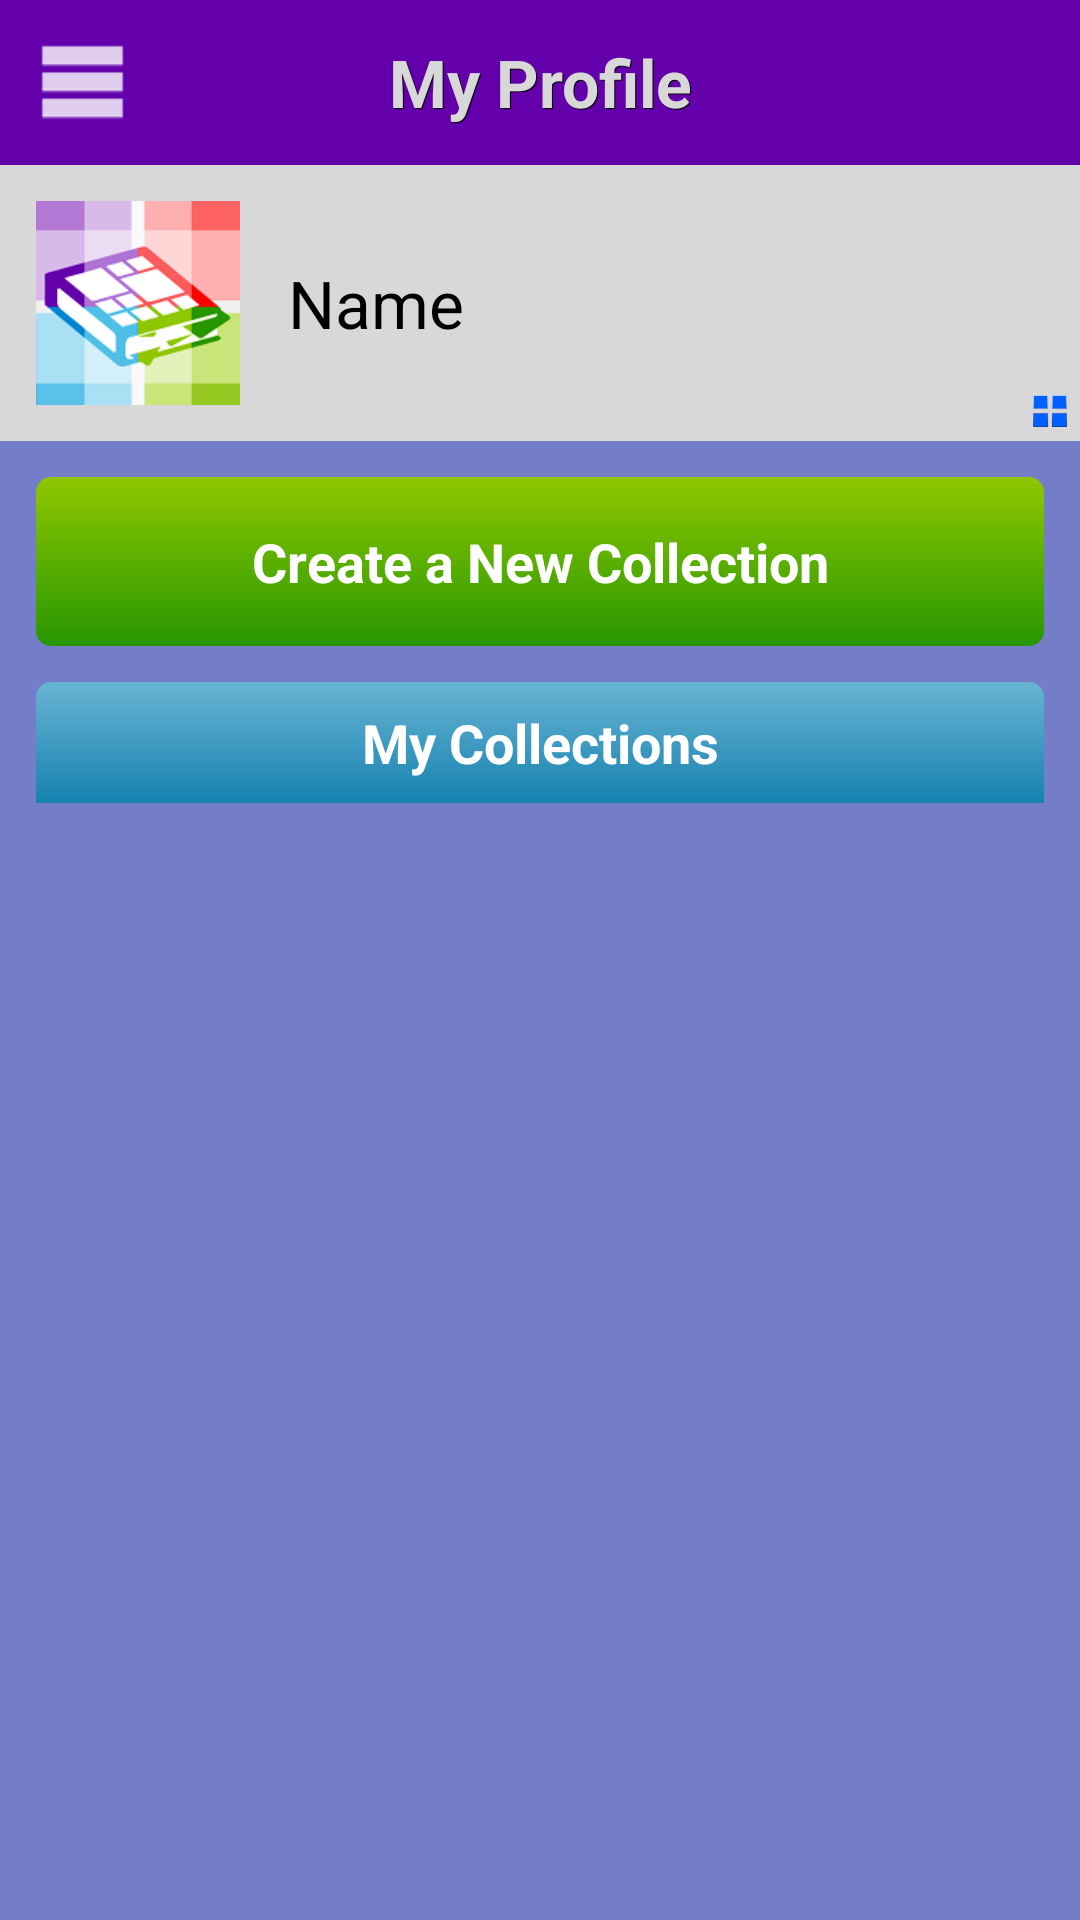

Icons on this 1080*1920 Android screen, each with the point to tap as (x,y):
Menu: (82,82)
